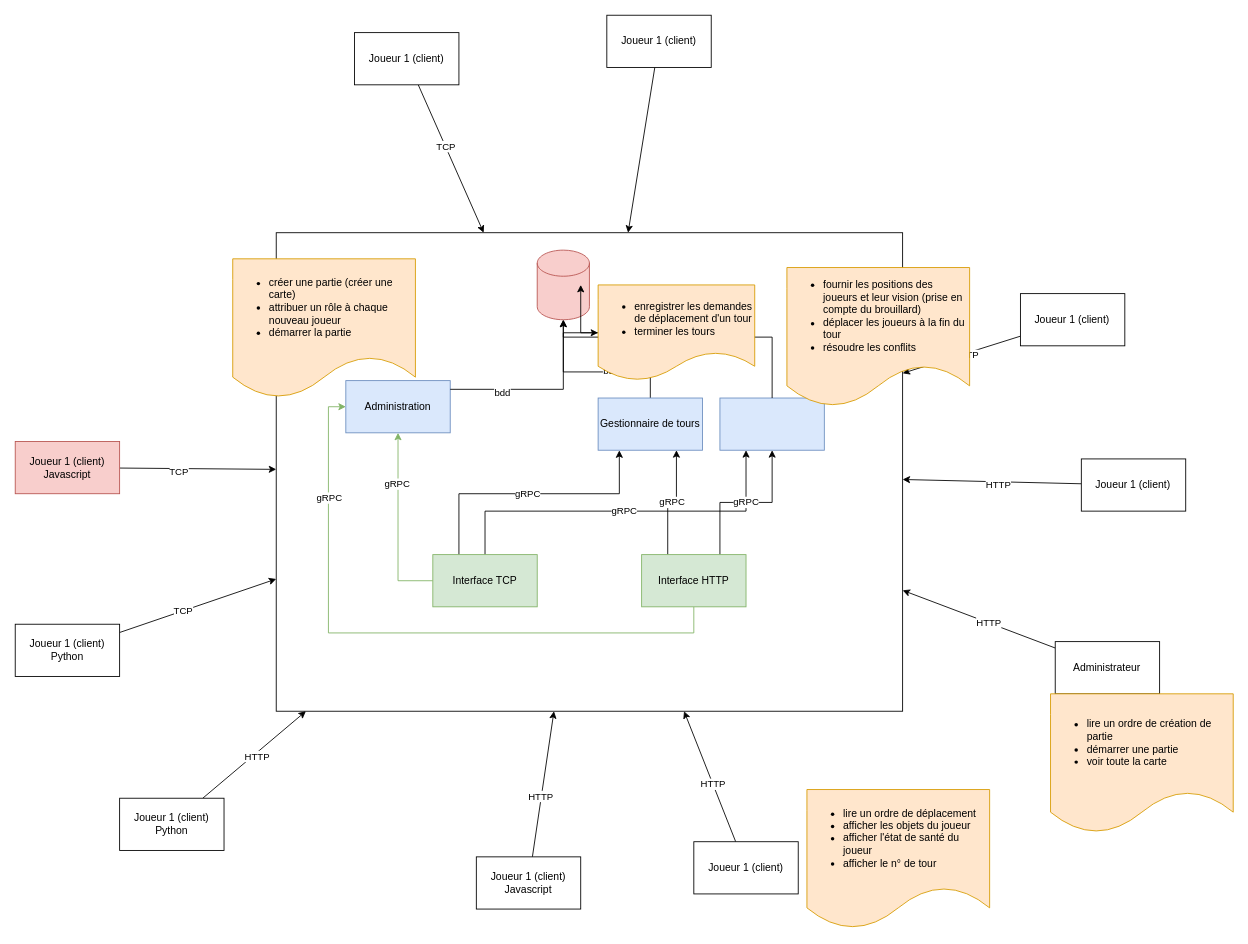
The diagram is 1248 pixels wide and 944 high, and some of its shapes have lost their labels. The shapes that lost their labels are listed below. From the top down, each one's box as (x1, y1, x2, y2) in pixels, then its label:
(719, 397, 824, 450): Gestionnaire de carte (position du joueur)
(275, 232, 903, 711): Serveur de jeu (Noeud)
